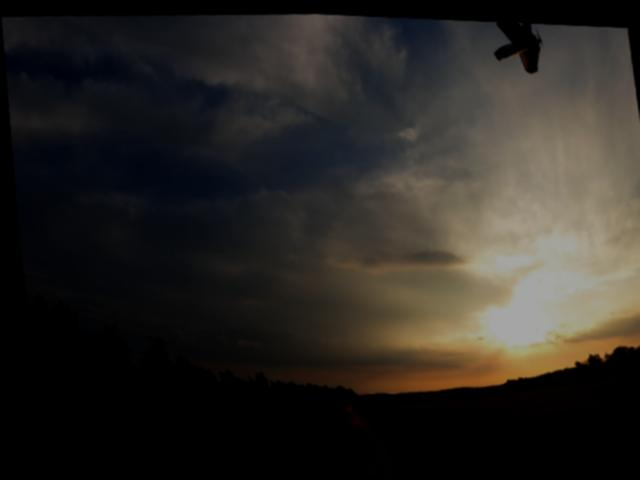plane: (491, 17, 546, 71)
